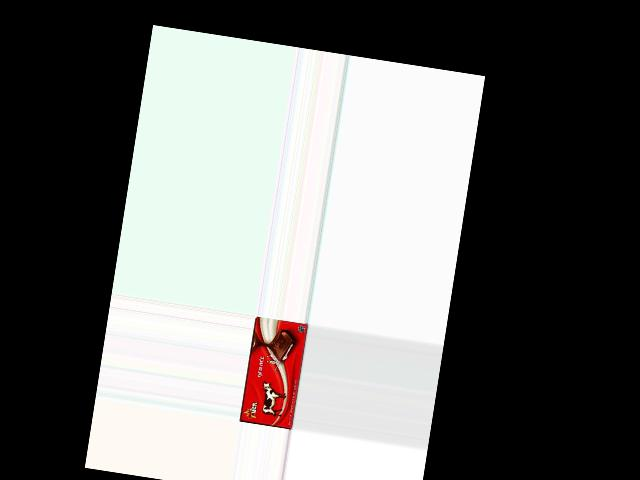chocolate: (239, 316, 308, 431)
